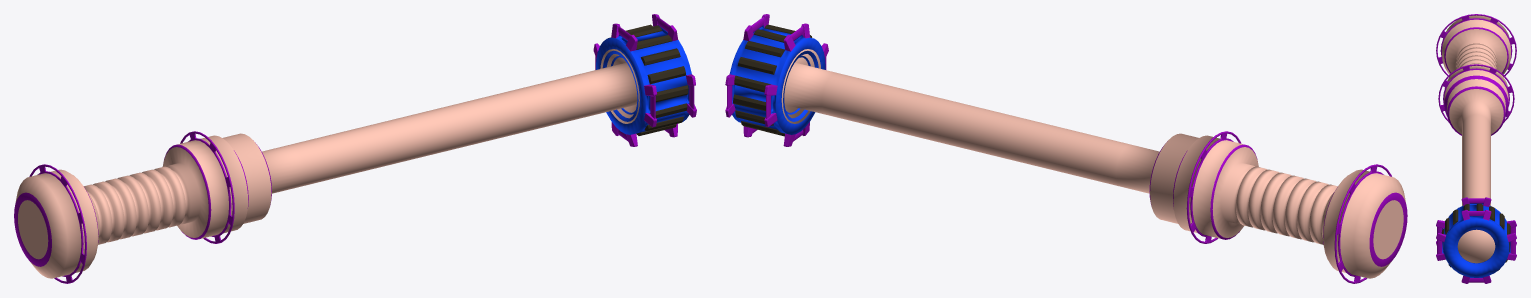
The model's file is module3.obj.
3 views of the same model, side by side, from view 1: azimuth 30°, elevation 25°; view 2: azimuth 150°, elevation 25°; view 3: azimuth 270°, elevation 25° (orthographic). The views are drawn at different scales.
Parts seen in each view (by area): view 1: module3_3body, module3_Material.078, module3_Material.075, module3_Material.076; view 2: module3_3body, module3_Material.078, module3_Material.075, module3_Material.076; view 3: module3_3body, module3_Material.078, module3_Material.075, module3_Material.076.
Boxes of the visible parts, x1,y1,x2,y2 form: module3_3body: [15, 49, 639, 278]; module3_Material.078: [14, 14, 696, 283]; module3_Material.075: [596, 25, 691, 134]; module3_Material.076: [608, 24, 688, 135]; module3_3body: [781, 49, 1405, 278]; module3_Material.078: [725, 14, 1407, 283]; module3_Material.075: [729, 25, 825, 134]; module3_Material.076: [733, 24, 812, 136]; module3_3body: [1442, 15, 1510, 263]; module3_Material.078: [1436, 14, 1516, 283]; module3_Material.075: [1442, 203, 1510, 277]; module3_Material.076: [1441, 203, 1510, 273].
Bounding box in the file's own units: 30 × 5 × 5.
